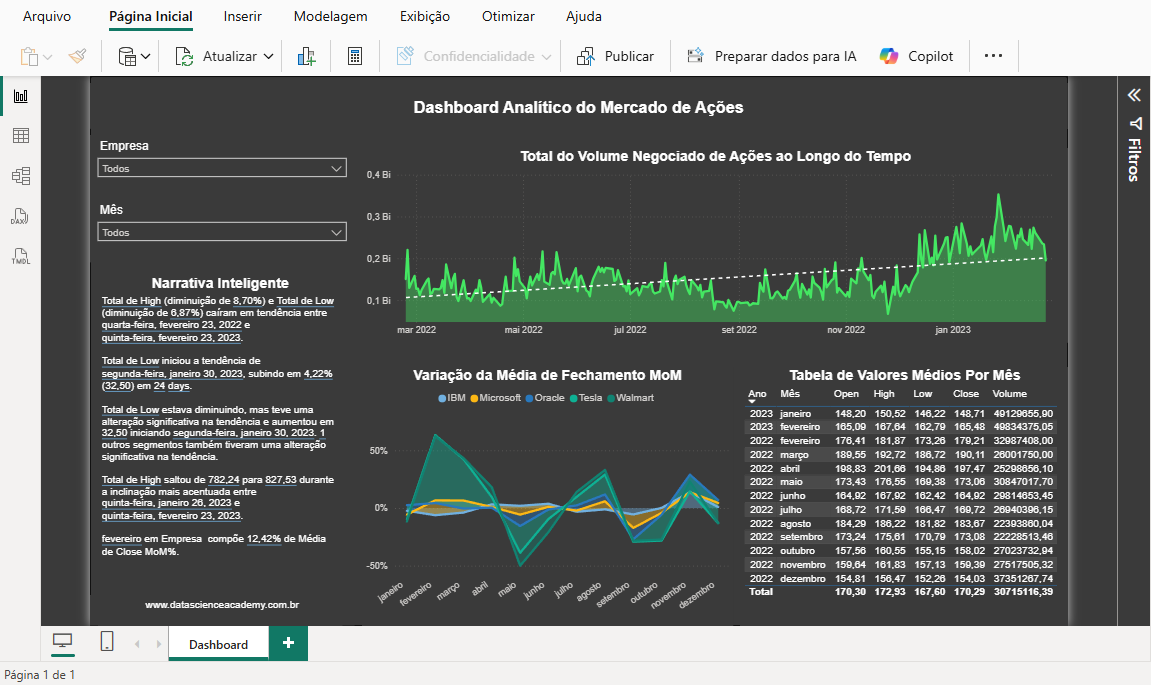

What the dashboard file says about the page in this screenshot:
{"tool":"powerbi","page":{"name":"Dashboard","canvas":[1280,720],"ordinal":0},"visuals":[{"type":"areaChart","title":"Total do Volume Negociado de Ações ao Longo do Tempo","fields":{"Category":["StockMarket.Data.Variation.Hierarquia de datas.Ano","StockMarket.Data.Variation.Hierarquia de datas.Trimestre","StockMarket.Data.Variation.Hierarquia de datas.Mês","StockMarket.Data.Variation.Hierarquia de datas.Dia"],"Y":["Sum(StockMarket.Volume)"]},"box":[357.2,94.1,922.8,254.8],"z":0},{"type":"stackedAreaChart","title":"Variação da Média de Fechamento MoM","fields":{"Category":["StockMarket.Data.Variation.Hierarquia de datas.Mês"],"Y":["StockMarket.Média de Close MoM%"],"Series":["StockMarket.Empresa"]},"box":[356.6,381.1,486.1,339.5],"z":1000},{"type":"tableEx","title":"Tabela de Valores Médios Por Mês","fields":{"Values":["StockMarket.Data.Variation.Hierarquia de datas.Ano","StockMarket.Data.Variation.Hierarquia de datas.Mês","Avg(StockMarket.Open)","Avg(StockMarket.High)","Avg(StockMarket.Low)","Avg(StockMarket.Close)","Avg(StockMarket.Volume)"]},"box":[851.3,381.1,431.1,342],"z":2000},{"type":"slicer","fields":{"Values":["StockMarket.Empresa"]},"box":[0,76.9,345.6,84.3],"z":3000},{"type":"slicer","fields":{"Values":["StockMarket.Data.Variation.Hierarquia de datas.Mês"]},"box":[0,161.2,345.6,83.1],"z":4000},{"type":"textbox","box":[0,8.6,1279.9,59.9],"z":5000},{"type":"textbox","title":"Narrativa Inteligente","box":[11,260.4,320.3,459.6],"z":6000},{"type":"textbox","box":[0,679.8,346.1,40.2],"z":7000}]}

Visuals, with their boxes on the page's 1280x720 design canvas (x1, y1, x2, y2). These are canvas units, not pixel positions in the 1151x685 screenshot, which may show the page scaled, cropped or inside an application window:
"Total do Volume Negociado de Ações ao Longo do Tempo" areaChart: <region>357, 94, 1280, 349</region>
"Variação da Média de Fechamento MoM" stackedAreaChart: <region>357, 381, 843, 721</region>
"Tabela de Valores Médios Por Mês" tableEx: <region>851, 381, 1282, 723</region>
slicer - StockMarket.Empresa: <region>0, 77, 346, 161</region>
slicer - StockMarket.Data.Variation.Hierarquia de datas.Mês: <region>0, 161, 346, 244</region>
textbox: <region>0, 9, 1280, 68</region>
"Narrativa Inteligente" textbox: <region>11, 260, 331, 720</region>
textbox: <region>0, 680, 346, 720</region>
